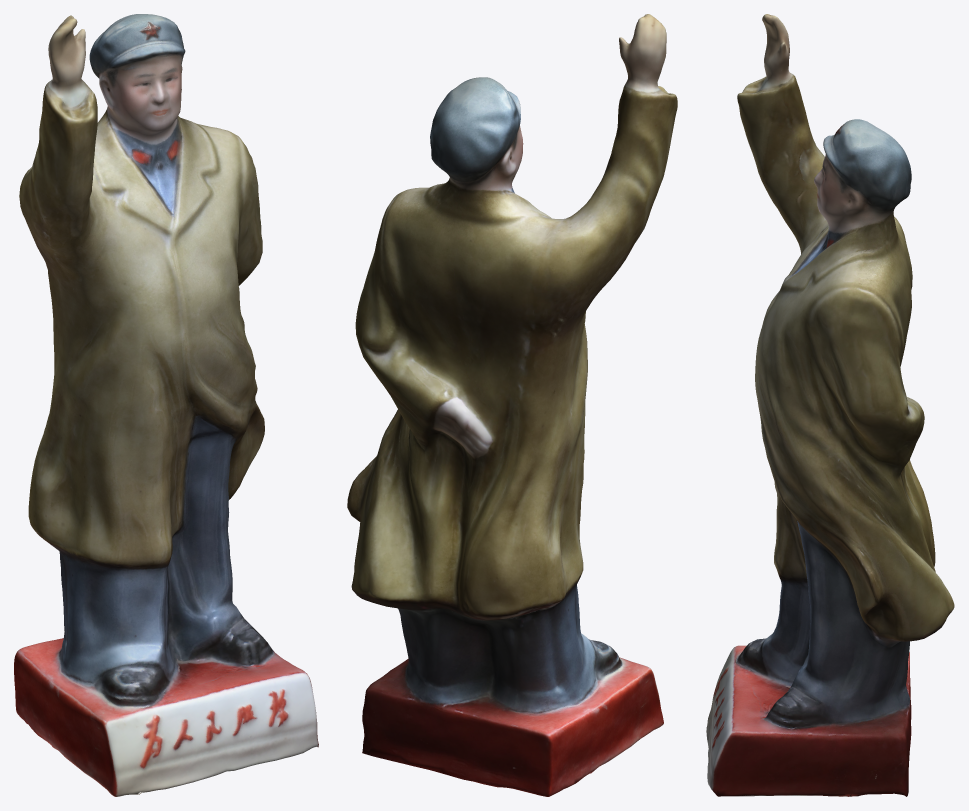
File: MAO.glb
3 views of the same model, side by side, from view 1: azimuth 30°, elevation 25°; view 2: azimuth 150°, elevation 25°; view 3: azimuth 270°, elevation 25° (orthographic). The views are drawn at different scales.
Visible parts, largest first — view 1: Object_3; view 2: Object_3; view 3: Object_3.
Boxes of the visible parts, left/top/right/bottom form: Object_3: left=14, top=14, right=318, bottom=796; Object_3: left=347, top=14, right=677, bottom=796; Object_3: left=706, top=14, right=954, bottom=796.
Bounding box in the file's own units: 1.47 × 3.92 × 1.28.
1 material, 1 textured.
